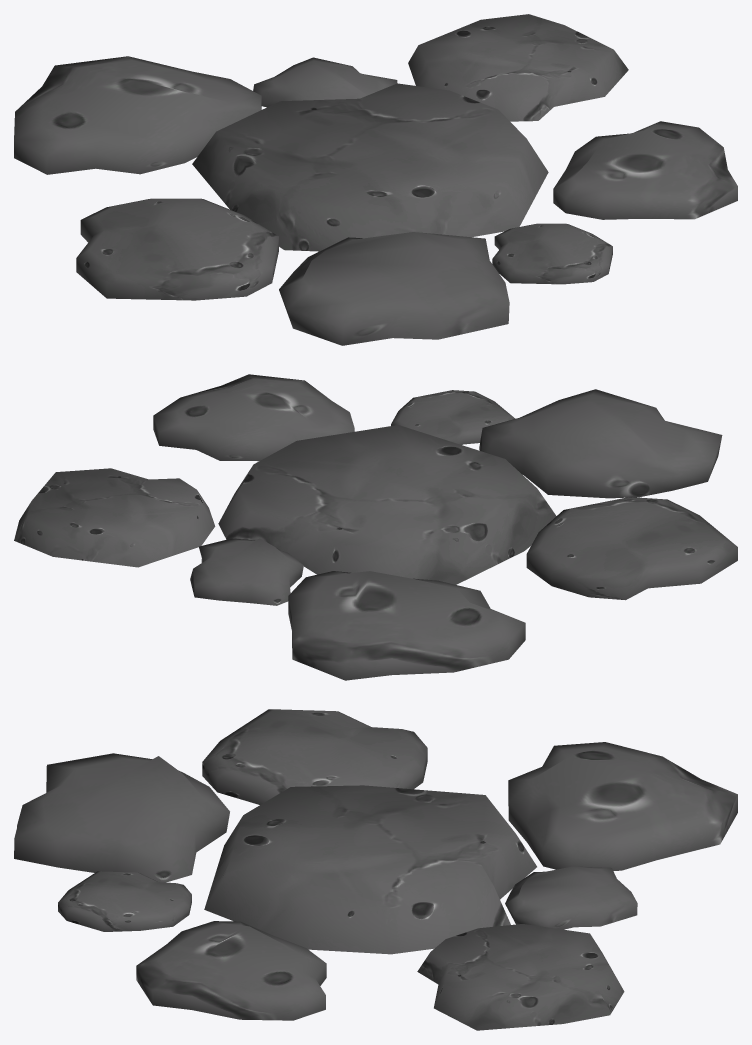
File: ROK0210002.fbx
3 views of the same model, one above another, from view 1: azimuth 30°, elevation 25°; view 2: azimuth 150°, elevation 25°; view 3: azimuth 270°, elevation 25° (orthographic). The views are drawn at different scales.
Parts seen in each view (by area): view 1: smROK0210002; view 2: smROK0210002; view 3: smROK0210002.
Boxes of the visible parts, <box> form: smROK0210002: <box>14,14,737,345</box>; smROK0210002: <box>14,374,737,680</box>; smROK0210002: <box>14,709,737,1030</box>.
Bounding box in the file's own units: 54.1 × 3.41 × 53.88.
1 material, 1 textured.
